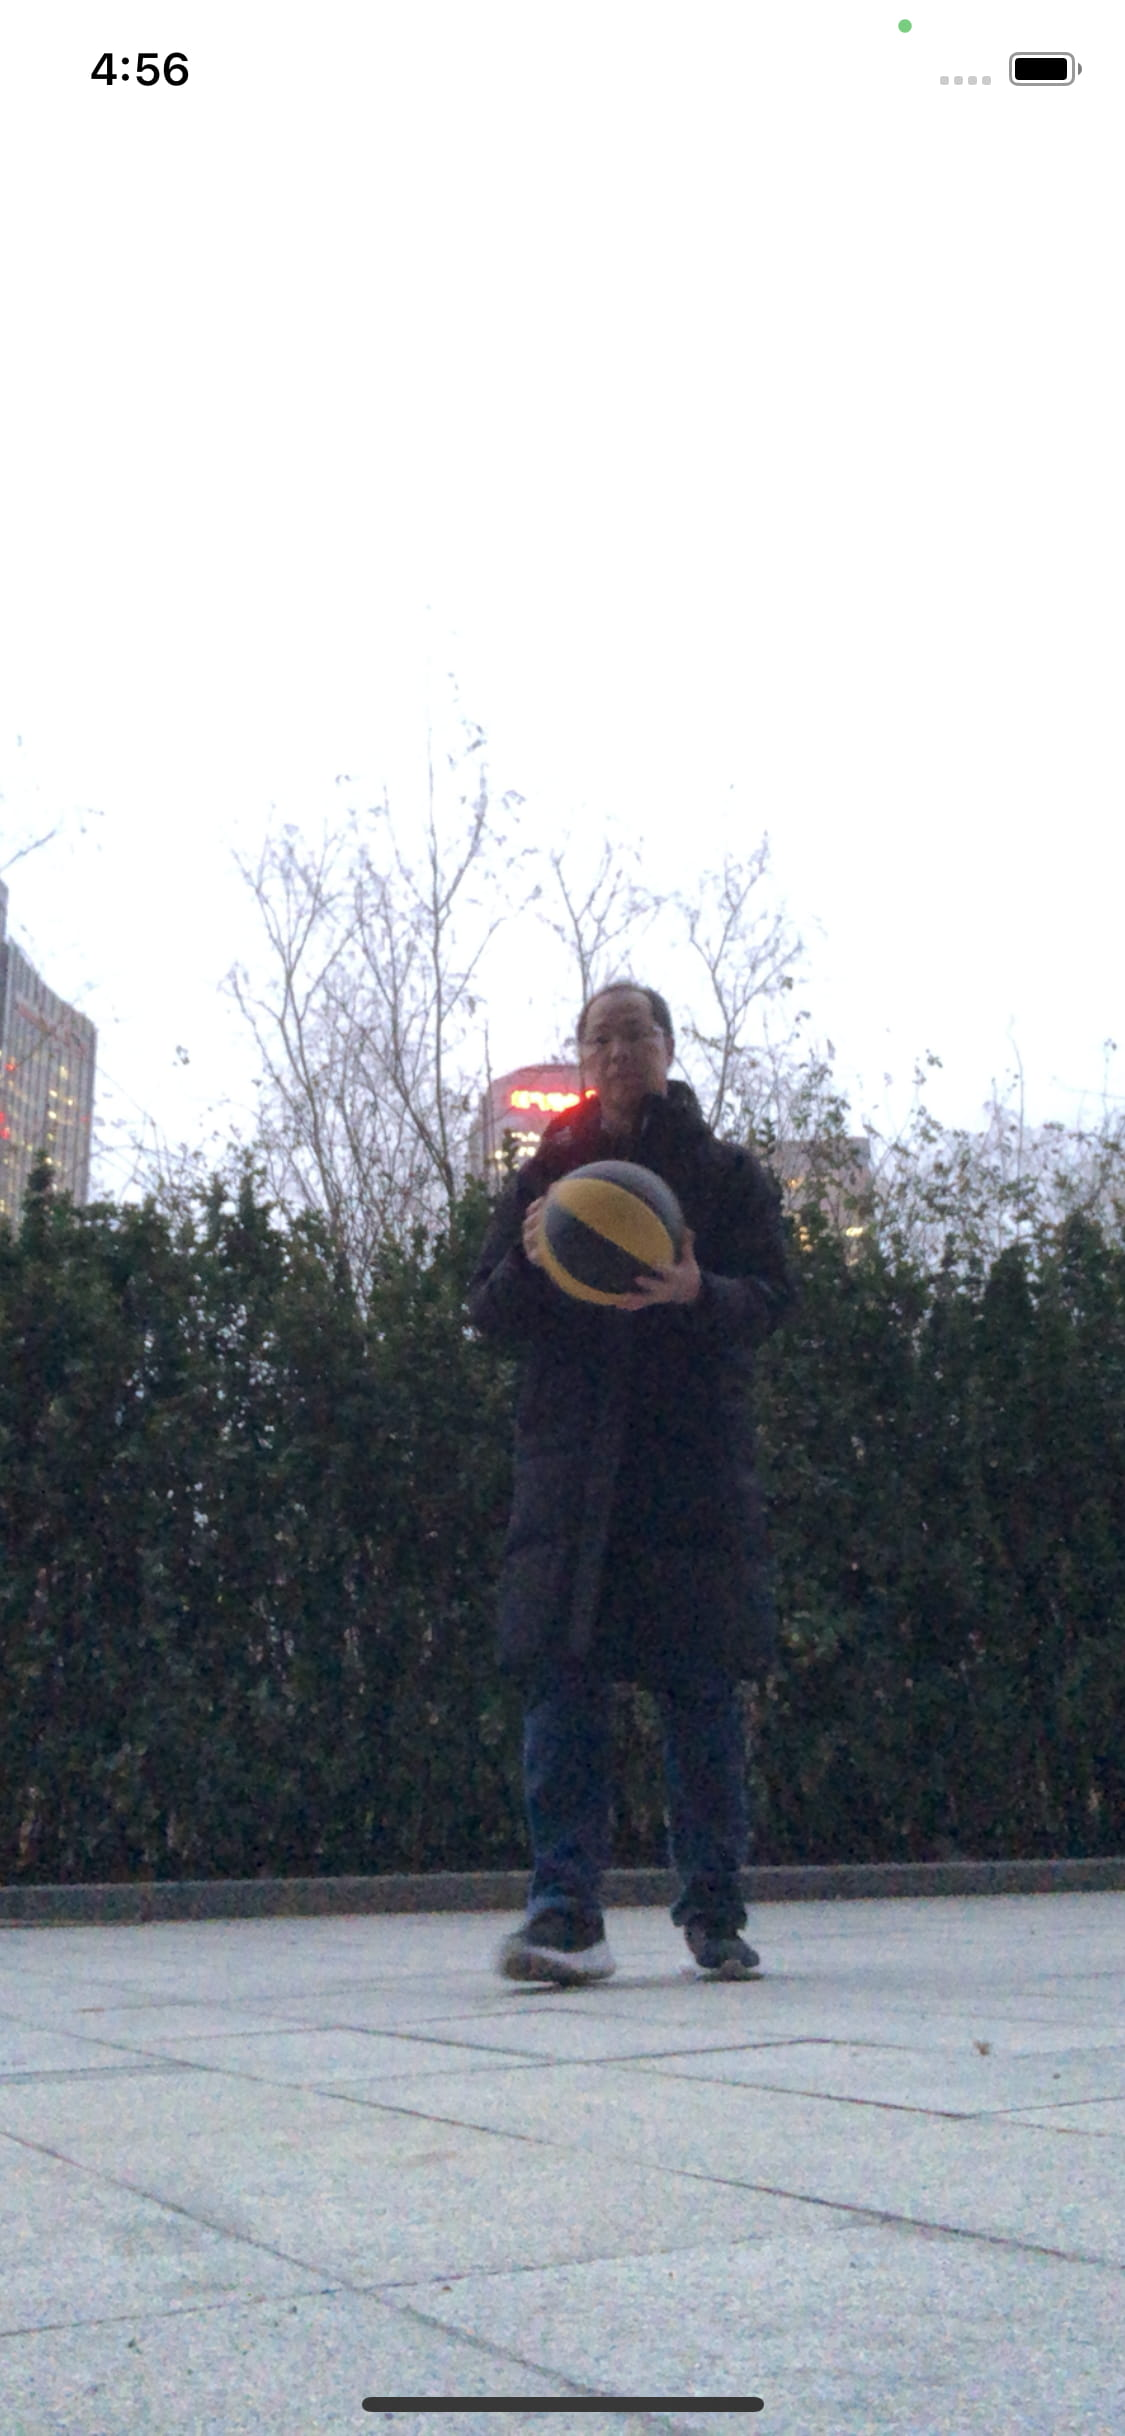ball: (533, 1153, 696, 1310)
